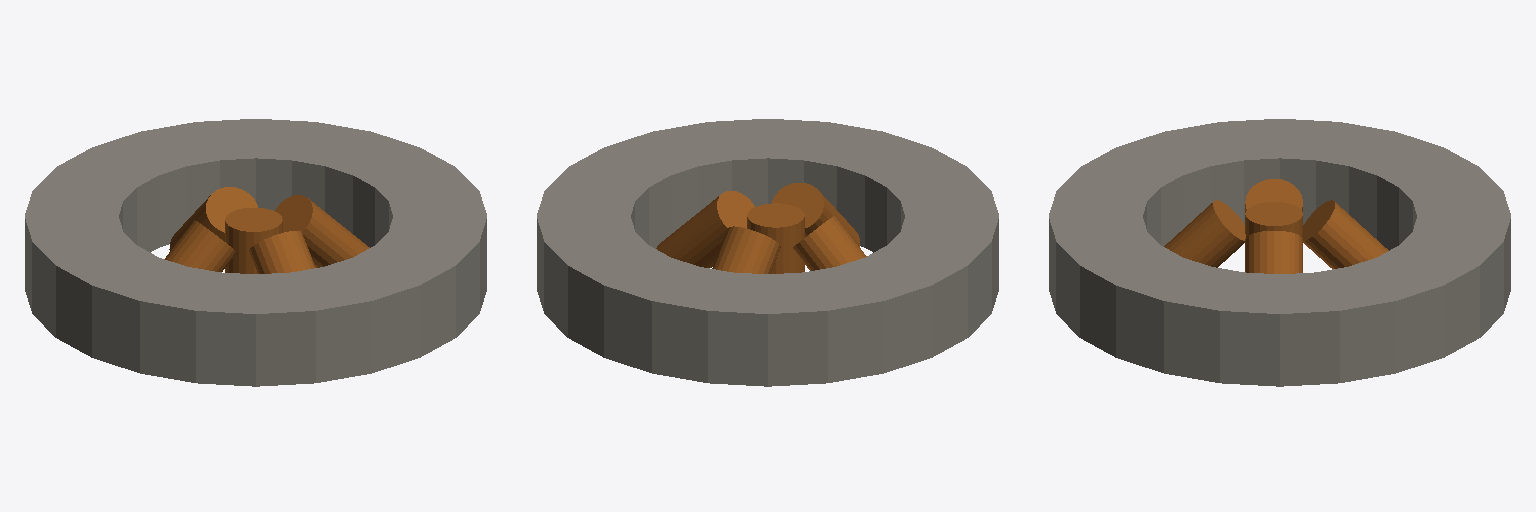
The model's file is FirePit.obj.
3 views of the same model, side by side, from view 1: azimuth 30°, elevation 25°; view 2: azimuth 150°, elevation 25°; view 3: azimuth 270°, elevation 25° (orthographic).
Visible parts, largest first — view 1: cylinderHollow, cylinder; view 2: cylinderHollow, cylinder; view 3: cylinderHollow, cylinder.
Boxes of the visible parts, x1,y1,x2,y2 form: cylinderHollow: [25, 119, 486, 386]; cylinder: [165, 187, 369, 273]; cylinderHollow: [537, 119, 998, 386]; cylinder: [656, 183, 866, 273]; cylinderHollow: [1049, 119, 1510, 386]; cylinder: [1164, 179, 1388, 273].
Bounding box in the file's own units: 3.24 × 0.7624 × 3.24.